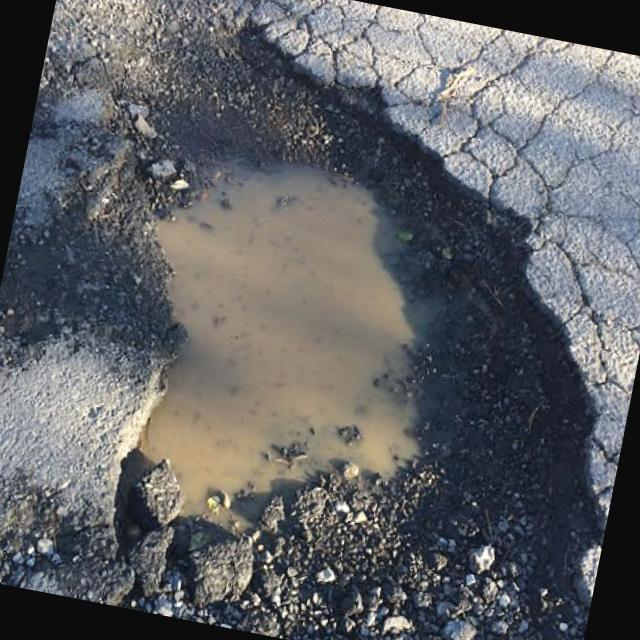Pothole: (87, 15, 619, 640)
